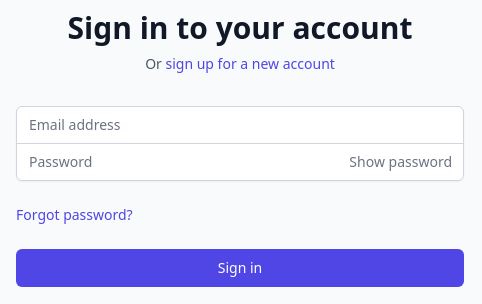
Test: Login Page Component › should toggle password visibility
Click the button "Show password" at (407, 162), box [349,142,464,180]
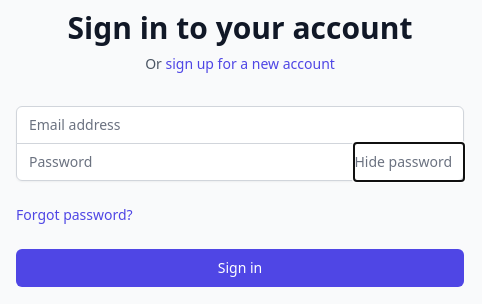
Expected: the button "Hide password" is shown, [354,142,464,180]
